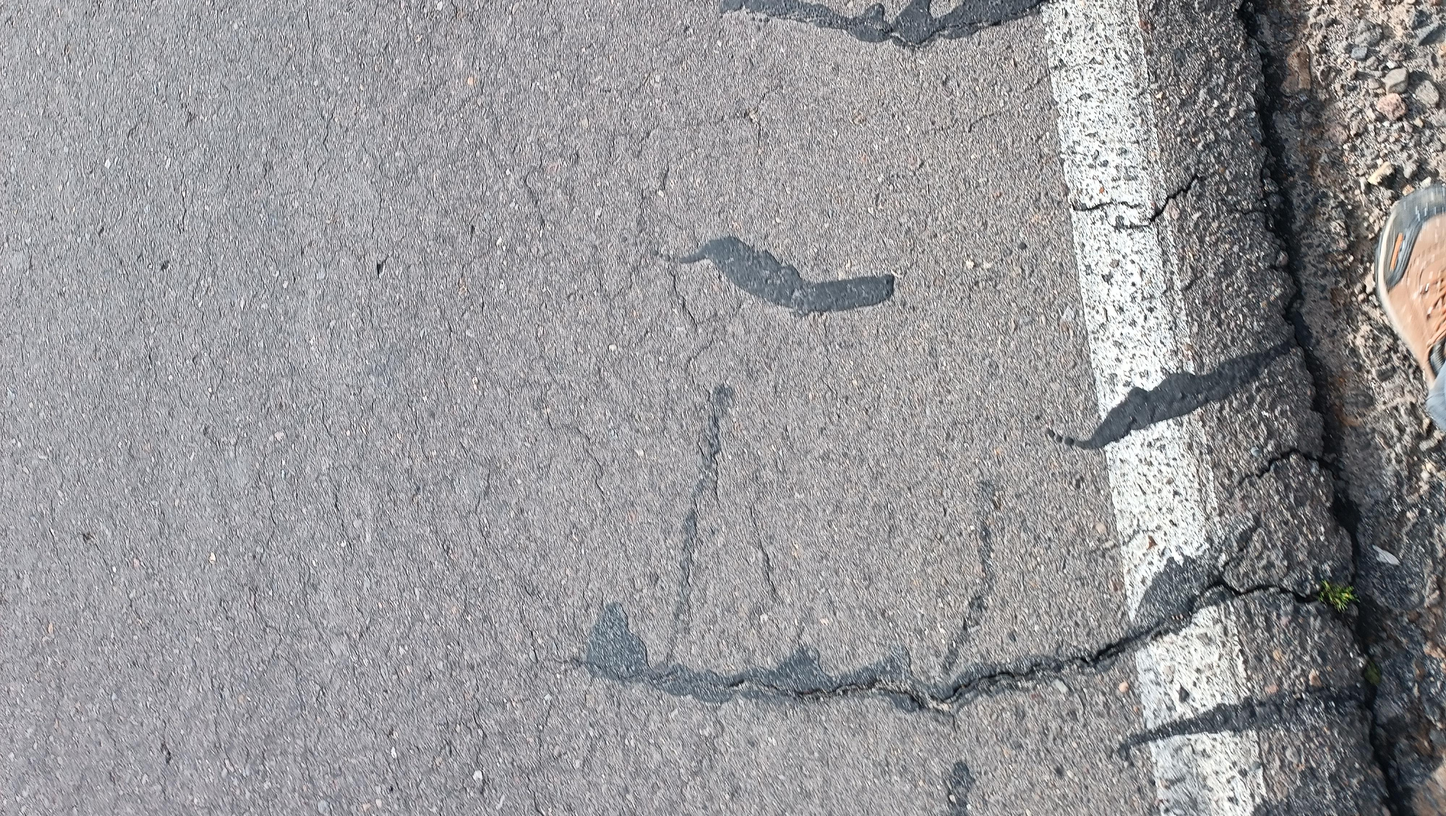GRIETA: (713, 573, 1321, 717), (1225, 446, 1319, 501)
PARCHE: (1077, 352, 1266, 447)
PIEL DE COCODRILO: (4, 254, 576, 816), (492, 79, 784, 376)
